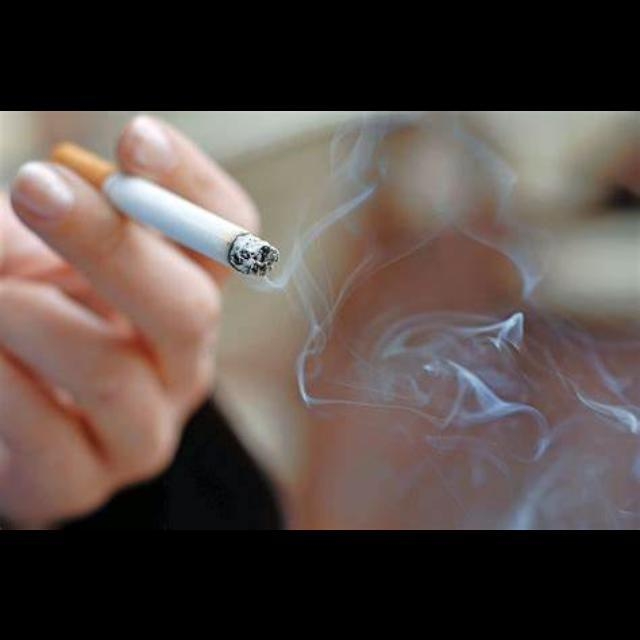rokok: (57, 140, 301, 288)
